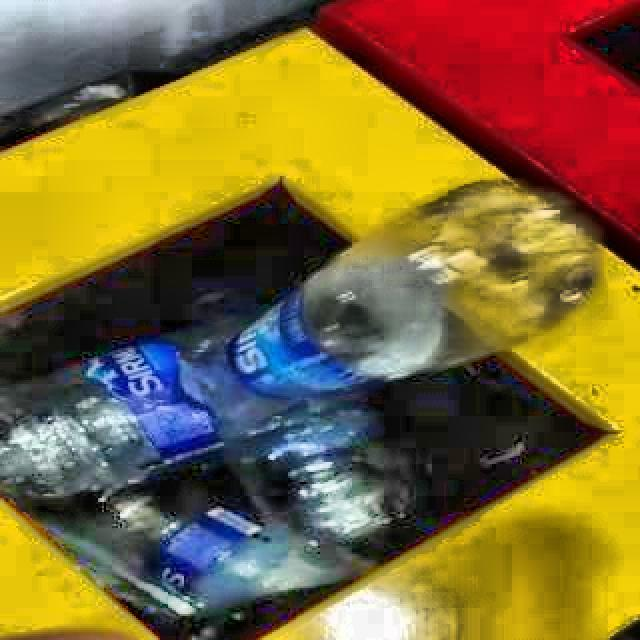plastic: (181, 180, 600, 436)
